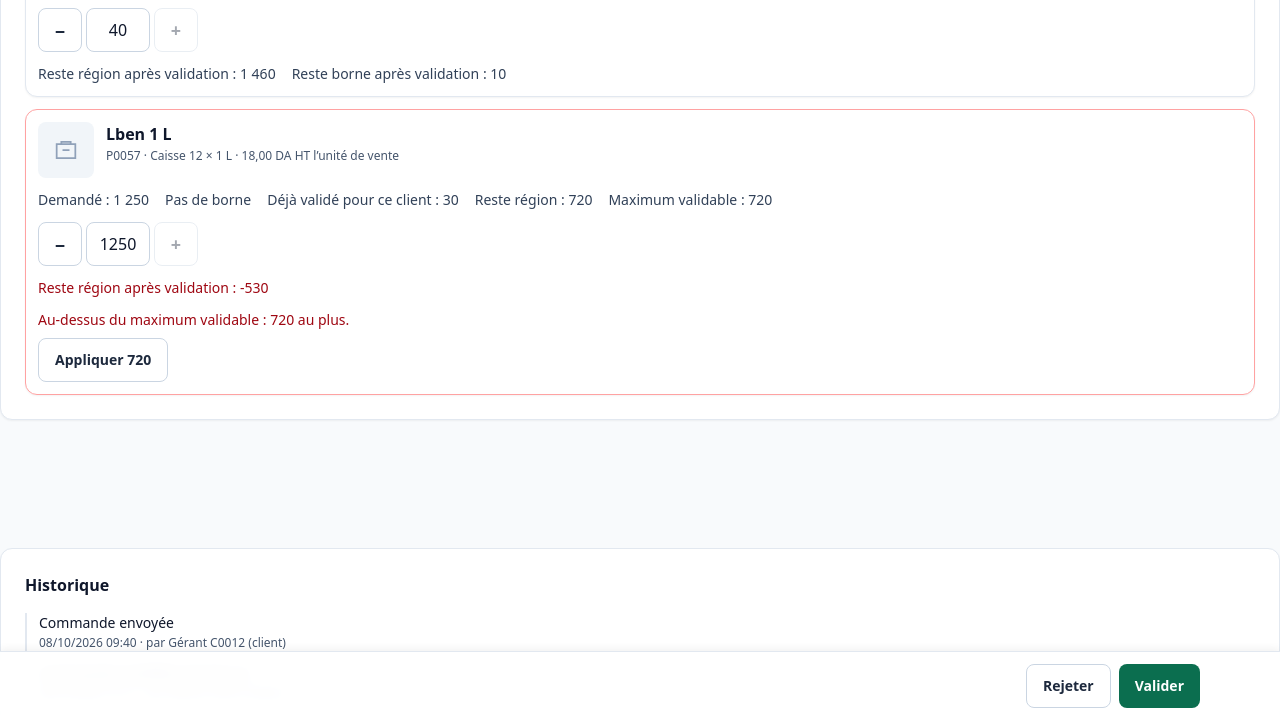
Test: regional order — decision panel › flags a line above its maximum validable and offers to apply it
(page scrolled)
Expected: the text "Au-dessus du maximum validable : 720 au plus." is shown, [38,310,349,330]
Click the button with aria-label "Appliquer 720 à « Lben 1 L »". click: (103, 360)
box: [38,338,168,382]
(page scrolled)
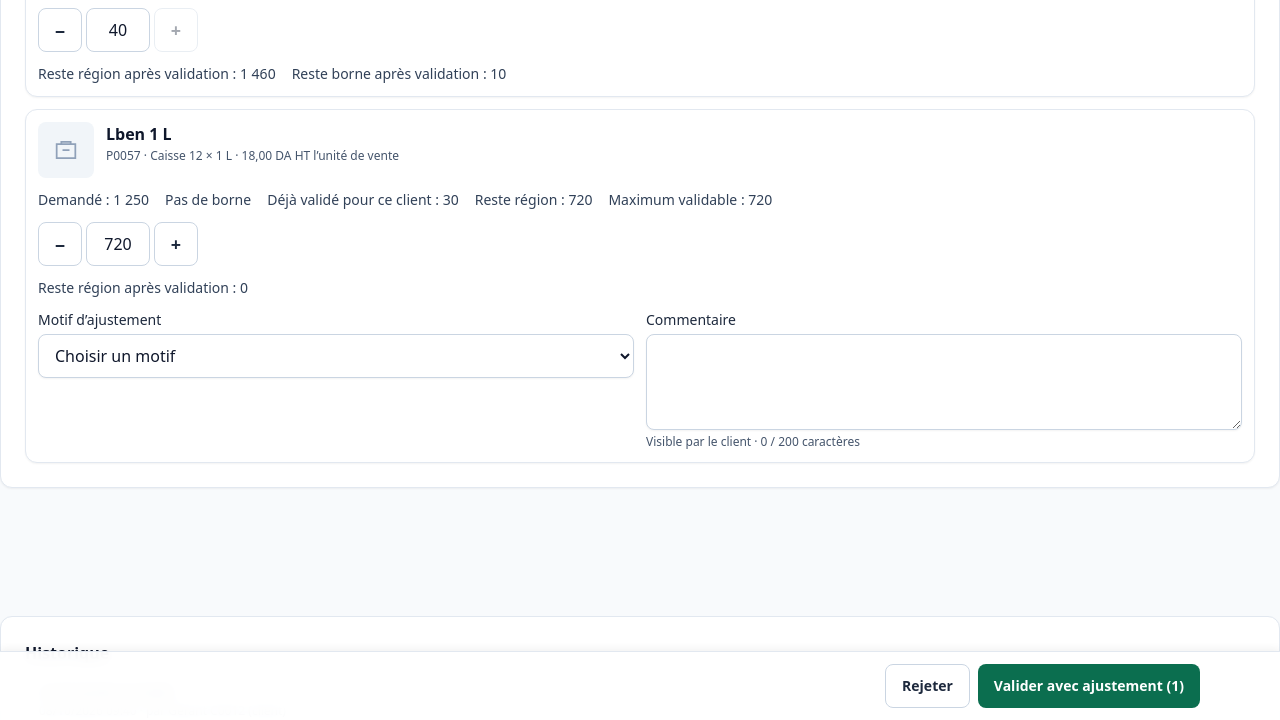
Expected: the text "Au-dessus du maximum" is gone
Expected: the dropdown labelled "Motif d’ajustement" is shown, [38,334,634,378]
Expected: the text "Visible par le client · 0 / 200 caractères" is shown, [646,433,860,450]
